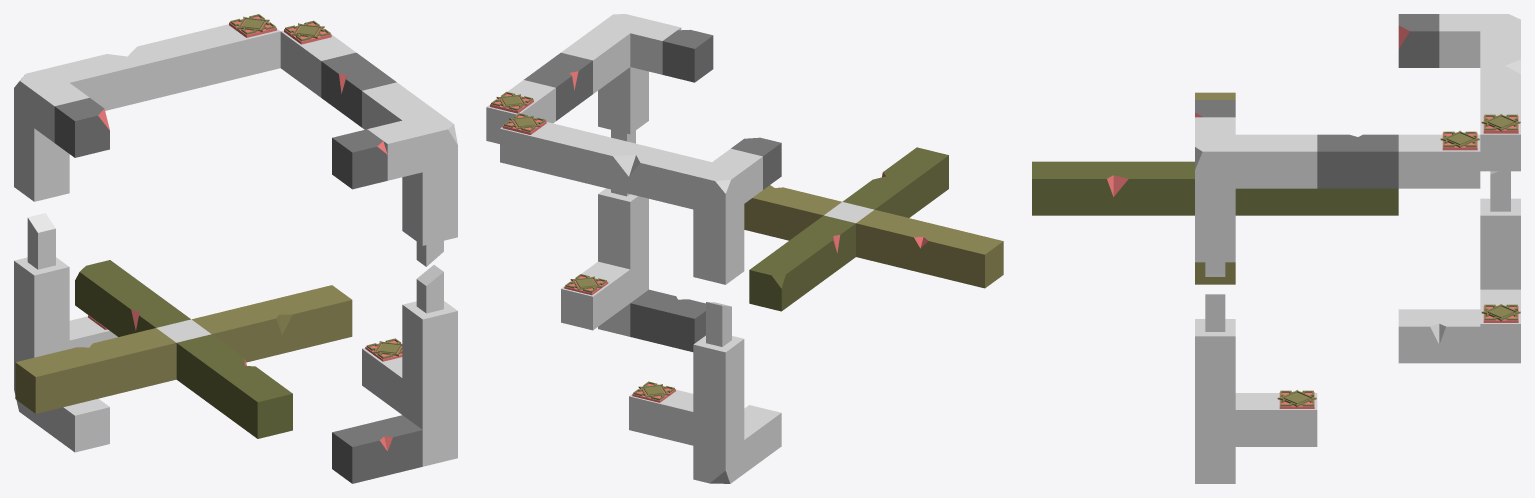
3 renders of one model, left to right at view 1: azimuth 30°, elevation 25°; view 2: azimuth 150°, elevation 25°; view 3: azimuth 270°, elevation 25°, orthographic. The views are drawn at different scales.
Visible parts, largest first — view 1: Box033, Box069, Box031, Box048, Box047, Box026, Box030, Box021, Box024, Box029, Box018, Box020 (+46 smaller); view 2: Box069, Box043, Box065, Box048, Box021, Box031, Box026, Box012, Box053, Box019, Box041, Box020 (+43 smaller); view 3: Box016, Box035, Box051, Box030, Box036, Box052, Box058, Box013, Box045, Box047, Box033, Box038 (+35 smaller).
Boxes of the visible parts, <box> form: Box033: <box>237,379,292,438</box>; Box069: <box>15,354,70,413</box>; Box031: <box>332,424,387,483</box>; Box048: <box>332,129,387,189</box>; Box047: <box>54,98,109,157</box>; Box026: <box>402,301,457,356</box>; Box030: <box>54,398,109,452</box>; Box021: <box>14,257,69,312</box>; Box024: <box>14,150,69,201</box>; Box029: <box>402,194,457,245</box>; Box018: <box>402,378,457,429</box>; Box020: <box>14,298,69,348</box>; Box069: <box>952,233,1003,288</box>; Box043: <box>693,162,744,217</box>; Box065: <box>749,256,800,311</box>; Box048: <box>662,29,713,82</box>; Box021: <box>693,335,744,385</box>; Box031: <box>662,299,705,351</box>; Box026: <box>598,188,648,235</box>; Box012: <box>561,278,611,330</box>; Box053: <box>596,138,647,193</box>; Box019: <box>693,406,744,453</box>; Box041: <box>693,204,744,250</box>; Box020: <box>693,373,744,419</box>; Box016: <box>1439,309,1480,363</box>; Box035: <box>1072,161,1113,215</box>; Box051: <box>1235,134,1276,188</box>; Box030: <box>1398,309,1439,363</box>; Box036: <box>1113,161,1154,215</box>; Box052: <box>1276,134,1317,188</box>; Box058: <box>1398,134,1439,188</box>; Box013: <box>1235,393,1276,446</box>; Box045: <box>1439,14,1480,67</box>; Box047: <box>1398,14,1439,67</box>; Box033: <box>1032,161,1072,215</box>; Box038: <box>1154,161,1194,215</box>.
Size of the model in its own units: 94.49 by 71.78 by 94.49.
